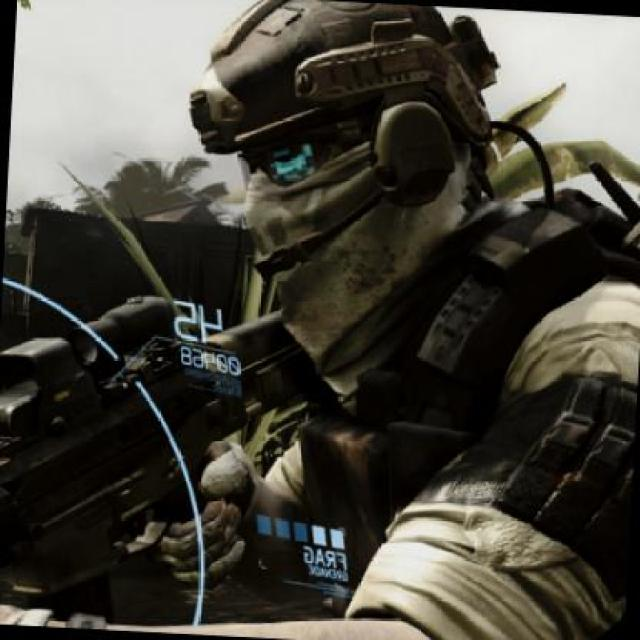MIL_Pax: (118, 0, 638, 638)
